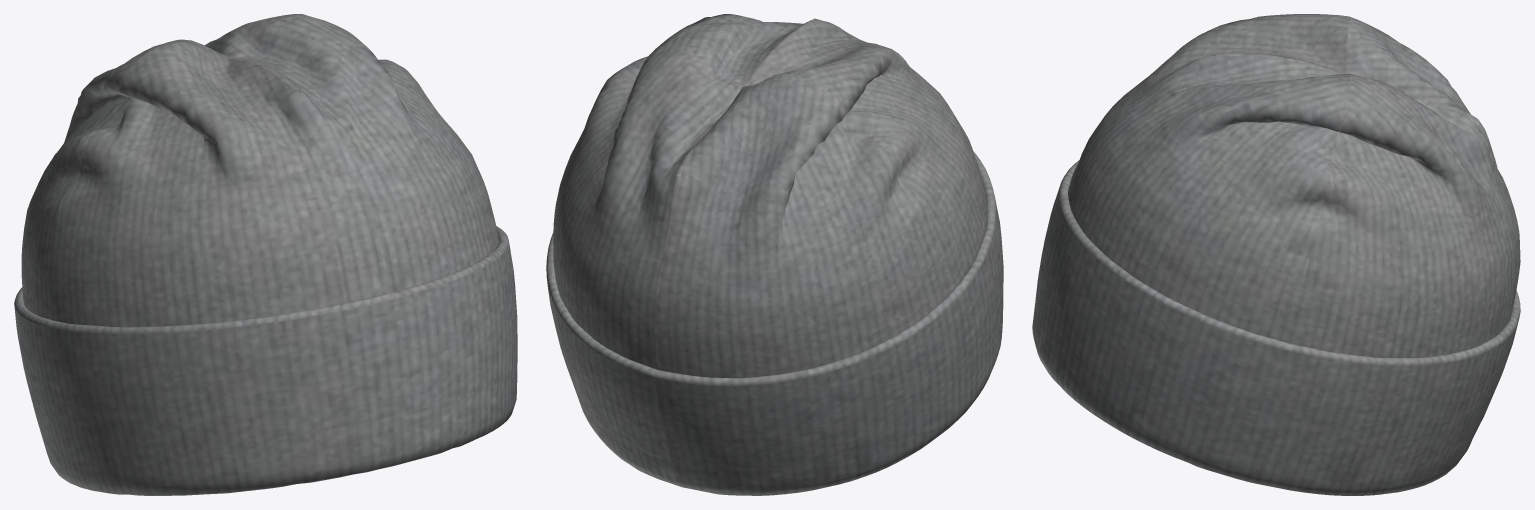
Rendered from gorro-gris-canale-lite.glb.
The picture shows the model from 3 angles, left to right: view 1: azimuth 30°, elevation 25°; view 2: azimuth 150°, elevation 25°; view 3: azimuth 270°, elevation 25°; orthographic projection. The views are drawn at different scales.
Visible parts, largest first — view 1: Object_6; view 2: Object_6; view 3: Object_6.
Boxes of the visible parts, <box> form: Object_6: <box>14,14,517,495</box>; Object_6: <box>546,14,1003,495</box>; Object_6: <box>1032,14,1520,495</box>.
Bounding box in the file's own units: 0.2 × 0.1898 × 0.2125.
Materials: 1 (1 with a texture image).
